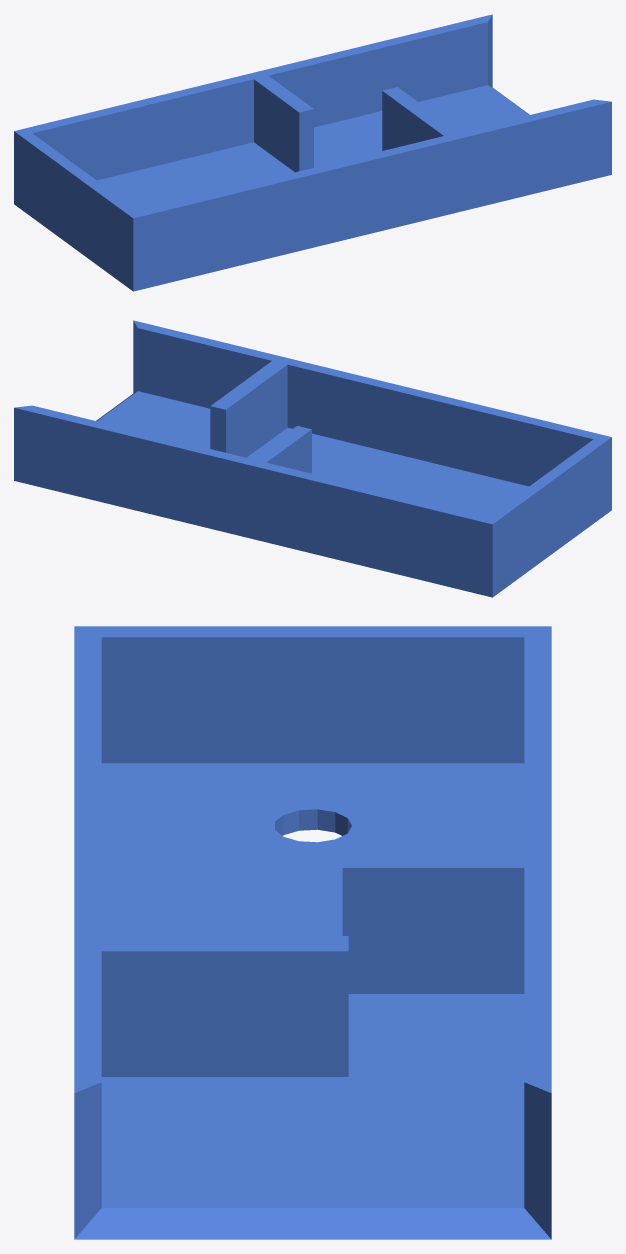
The model's file is mataha 2.fbx.
The picture shows the model from 3 angles, top to bottom: view 1: azimuth 30°, elevation 25°; view 2: azimuth 150°, elevation 25°; view 3: azimuth 270°, elevation 25°; orthographic projection. The views are drawn at different scales.
Parts seen in each view (by area): view 1: mataha 1; view 2: mataha 1; view 3: mataha 1.
Boxes of the visible parts, x1,y1,x2,y2 form: mataha 1: [14, 14, 611, 291]; mataha 1: [14, 320, 611, 597]; mataha 1: [74, 626, 551, 1239].
Size of the model in its own units: 623 by 91 by 269.
